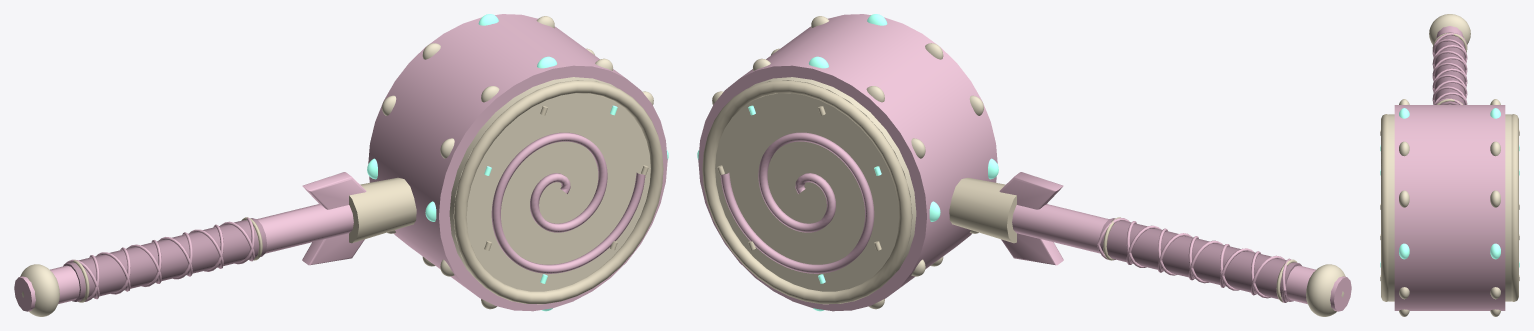
Rendered from sugar-crash.glb.
The picture shows the model from 3 angles, left to right: view 1: azimuth 30°, elevation 25°; view 2: azimuth 150°, elevation 25°; view 3: azimuth 270°, elevation 25°; orthographic projection. The views are drawn at different scales.
Parts seen in each view (by area): view 1: 08_Faultline_Hammer__body_Sculpt_coat, 08_Faultline_Hammer__body_Sculpt_pearl, 08_Faultline_Hammer__body_Sculpt_candy_trim, 08_Faultline_Hammer__body_Sculpt_grip, 08_Faultline_Hammer__body_Sculpt_glow; view 2: 08_Faultline_Hammer__body_Sculpt_coat, 08_Faultline_Hammer__body_Sculpt_pearl, 08_Faultline_Hammer__body_Sculpt_candy_trim, 08_Faultline_Hammer__body_Sculpt_grip, 08_Faultline_Hammer__body_Sculpt_glow; view 3: 08_Faultline_Hammer__body_Sculpt_coat, 08_Faultline_Hammer__body_Sculpt_pearl, 08_Faultline_Hammer__body_Sculpt_candy_trim, 08_Faultline_Hammer__body_Sculpt_grip, 08_Faultline_Hammer__body_Sculpt_glow.
Part boxes in pixels (bbox=[...]): 08_Faultline_Hammer__body_Sculpt_coat: bbox=[14, 14, 667, 311]; 08_Faultline_Hammer__body_Sculpt_pearl: bbox=[20, 16, 653, 316]; 08_Faultline_Hammer__body_Sculpt_candy_trim: bbox=[73, 80, 663, 304]; 08_Faultline_Hammer__body_Sculpt_grip: bbox=[64, 218, 267, 301]; 08_Faultline_Hammer__body_Sculpt_glow: bbox=[367, 14, 668, 311]; 08_Faultline_Hammer__body_Sculpt_coat: bbox=[698, 14, 1351, 311]; 08_Faultline_Hammer__body_Sculpt_pearl: bbox=[712, 16, 1345, 316]; 08_Faultline_Hammer__body_Sculpt_candy_trim: bbox=[702, 80, 1297, 304]; 08_Faultline_Hammer__body_Sculpt_grip: bbox=[1100, 218, 1301, 301]; 08_Faultline_Hammer__body_Sculpt_glow: bbox=[697, 14, 998, 311]; 08_Faultline_Hammer__body_Sculpt_coat: bbox=[1394, 26, 1505, 310]; 08_Faultline_Hammer__body_Sculpt_pearl: bbox=[1388, 14, 1511, 316]; 08_Faultline_Hammer__body_Sculpt_candy_trim: bbox=[1380, 33, 1519, 301]; 08_Faultline_Hammer__body_Sculpt_grip: bbox=[1434, 32, 1465, 104]; 08_Faultline_Hammer__body_Sculpt_glow: bbox=[1380, 108, 1519, 267].
Bounding box in the file's own units: 2.32 × 0.91 × 0.58.
